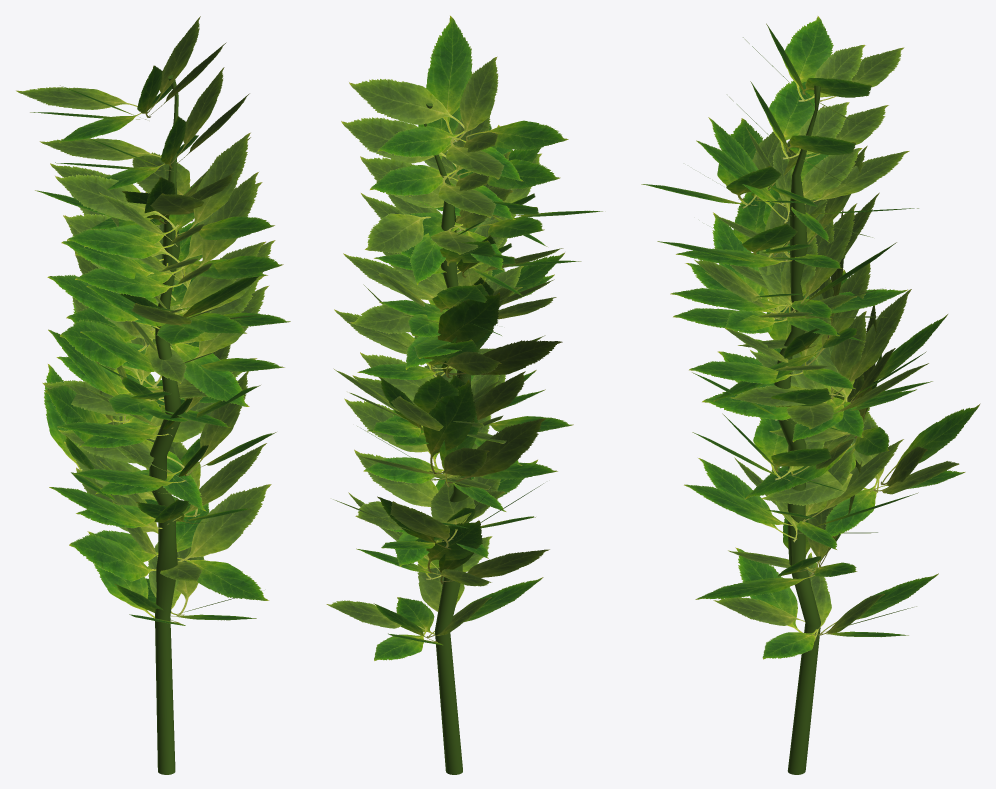
File: leaf2.fbx
3 renders of one model, left to right at view 1: azimuth 30°, elevation 25°; view 2: azimuth 150°, elevation 25°; view 3: azimuth 270°, elevation 25°, orthographic. The views are drawn at different scales.
Parts seen in each view (by area): view 1: pasted__pasted__pPlane1 (×39), pasted__pPlane1 (×29), pCylinder1; view 2: pasted__pPlane1 (×32), pasted__pasted__pPlane1 (×29), pCylinder1; view 3: pasted__pasted__pPlane1 (×36), pasted__pPlane1 (×25), pCylinder1.
Part boxes in pixels (x1,y1,x2,y2): pasted__pasted__pPlane1 (×39): (44, 66, 290, 618); pasted__pPlane1 (×29): (16, 16, 271, 616); pCylinder1: (149, 75, 182, 774); pasted__pPlane1 (×32): (326, 56, 562, 637); pasted__pasted__pPlane1 (×29): (357, 15, 573, 660); pCylinder1: (424, 103, 470, 774); pasted__pasted__pPlane1 (×36): (670, 16, 979, 659); pasted__pPlane1 (×25): (694, 44, 959, 637); pCylinder1: (774, 85, 820, 774).
Size of the model in its own units: 0.8173 by 2.39 by 0.987.
Materials: 3 (3 with a texture image).
